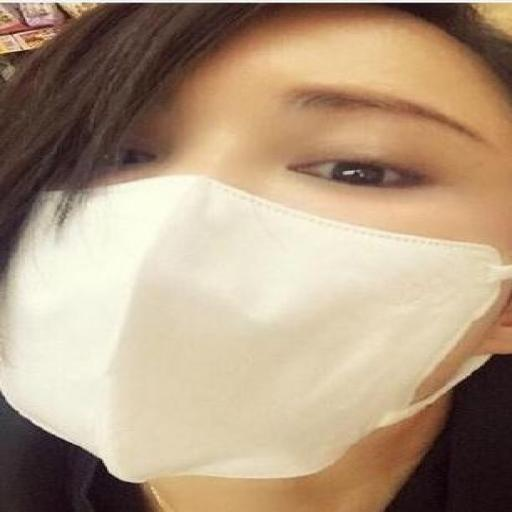mask: (8, 52, 512, 512)
